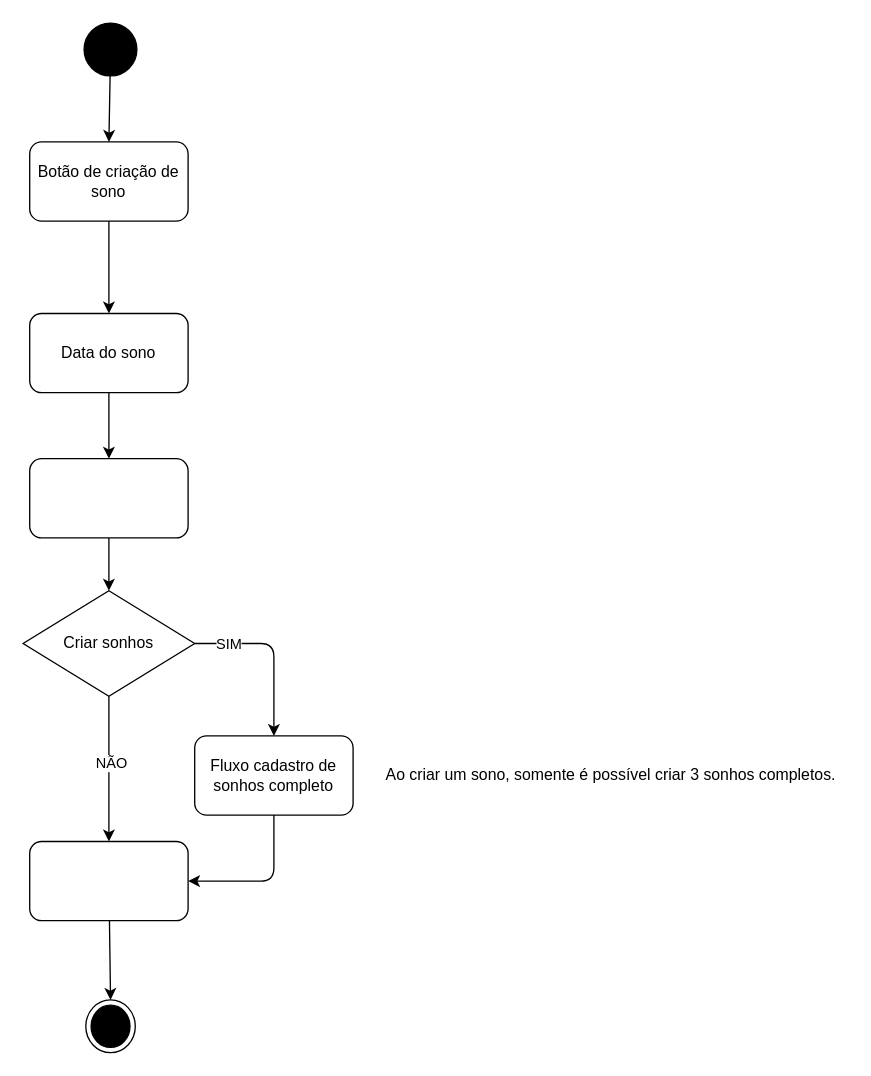
The diagram is 871 pixels wide and 1076 high, and some of its shapes have lost their labels. The shapes that lost their labels are listed below. From the top down, each one's box as (x1, y1, x2, y2) in pixels, then its label:
(28, 457, 188, 538): Características do sono
(28, 840, 188, 921): Salva sono
